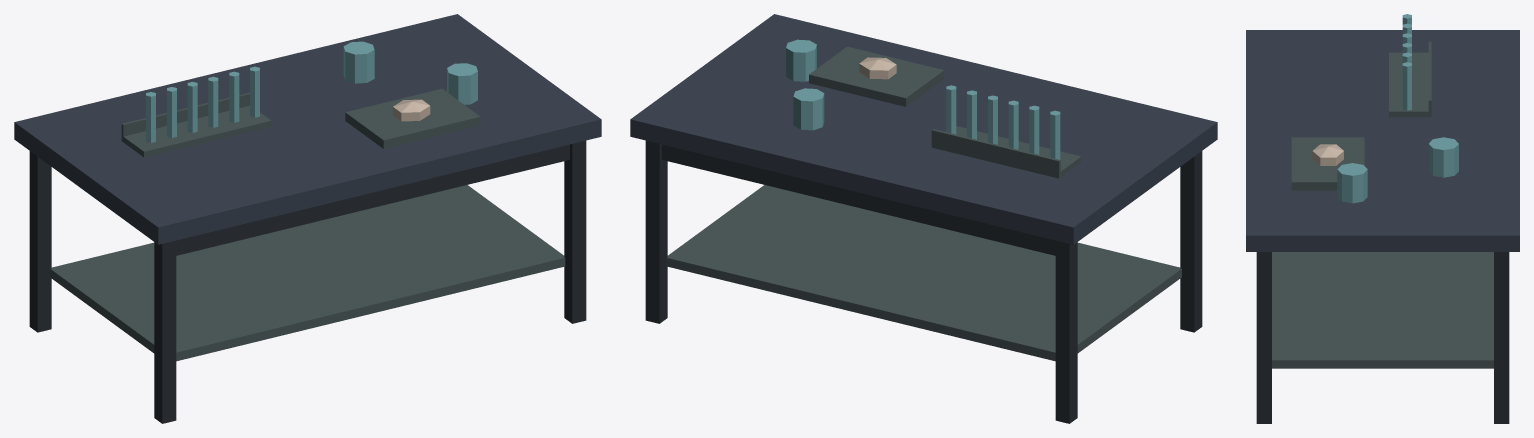
File: Lab_Table.fbx
3 renders of one model, left to right at view 1: azimuth 30°, elevation 25°; view 2: azimuth 150°, elevation 25°; view 3: azimuth 270°, elevation 25°, orthographic. The views are drawn at different scales.
Visible parts, largest first — view 1: Lab_Table; view 2: Lab_Table; view 3: Lab_Table.
Part boxes in pixels (left/top/right/bottom): Lab_Table: left=14, top=14, right=601, bottom=423; Lab_Table: left=630, top=14, right=1217, bottom=423; Lab_Table: left=1246, top=14, right=1519, bottom=423.
Bounding box in the file's own units: 1.6 × 0.88 × 0.9.
